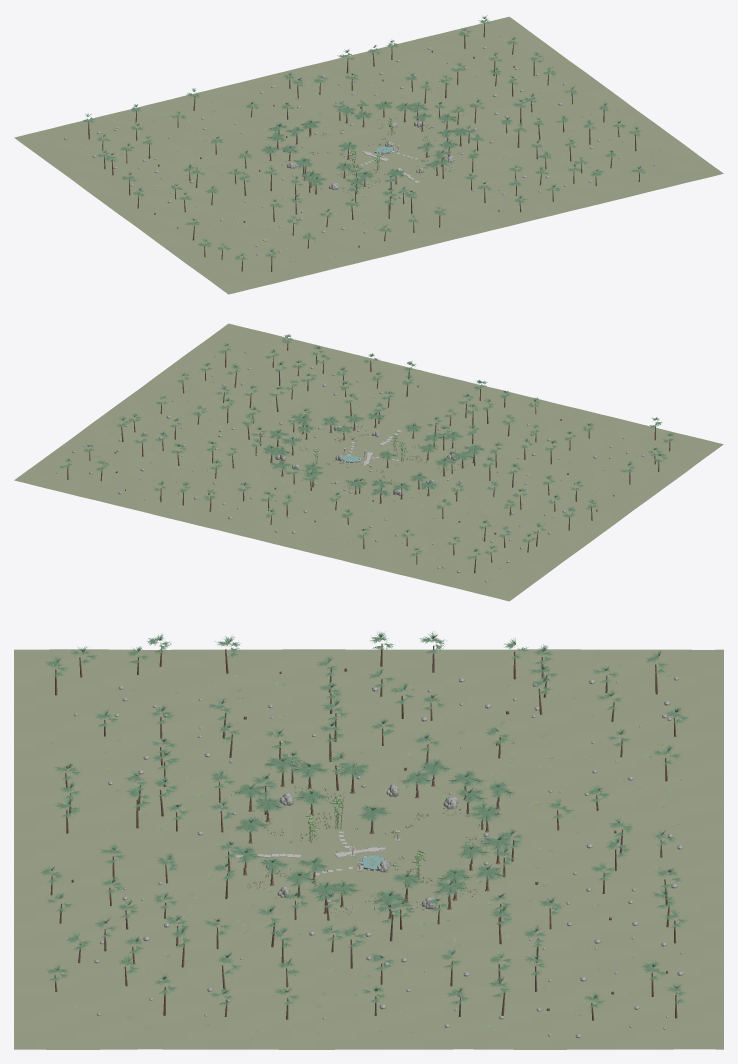
Rendered from garden.glb.
The picture shows the model from 3 angles, top to bottom: view 1: azimuth 30°, elevation 25°; view 2: azimuth 150°, elevation 25°; view 3: azimuth 270°, elevation 25°; orthographic projection. The views are drawn at different scales.
Parts seen in each view (by area): view 1: Terrain1; view 2: Terrain1; view 3: Terrain1.
Boxes of the visible parts, x1,y1,x2,y2 form: Terrain1: [14, 16, 723, 294]; Terrain1: [14, 323, 723, 601]; Terrain1: [14, 649, 723, 1049].
Size of the model in its own units: 88 by 4.89 by 66.
